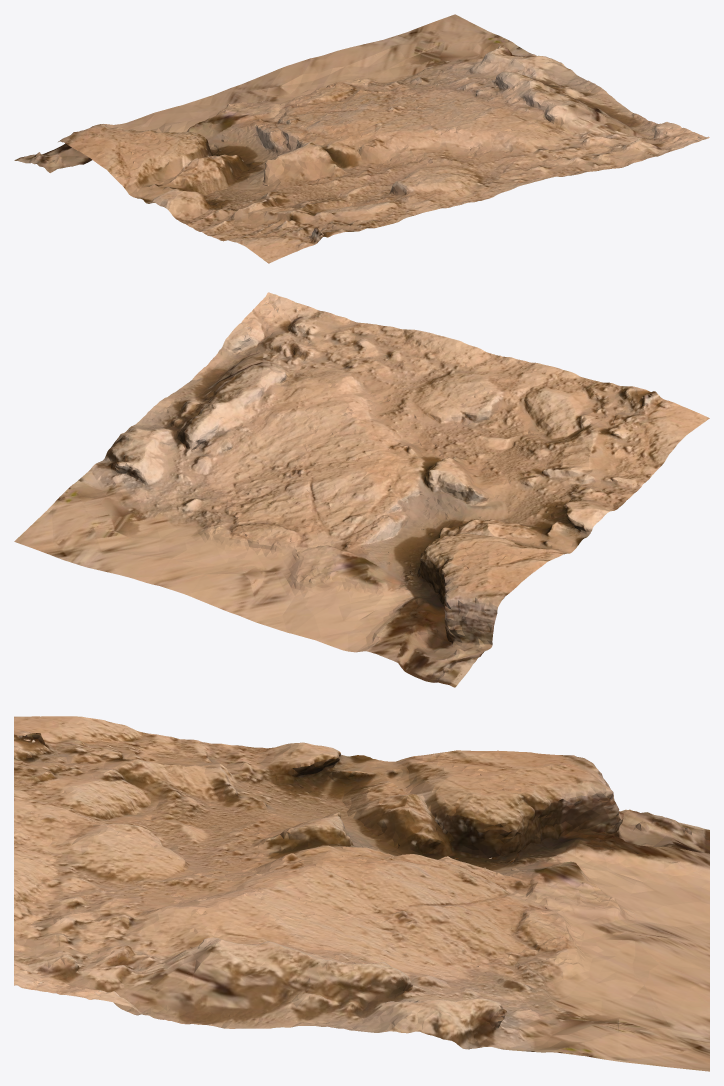
3 views of the same model, one above another, from view 1: azimuth 30°, elevation 25°; view 2: azimuth 150°, elevation 25°; view 3: azimuth 270°, elevation 25° (orthographic). The views are drawn at different scales.
Bounding box in the file's own units: 4.18 × 0.9277 × 4.18.
2 materials, 2 textured.
